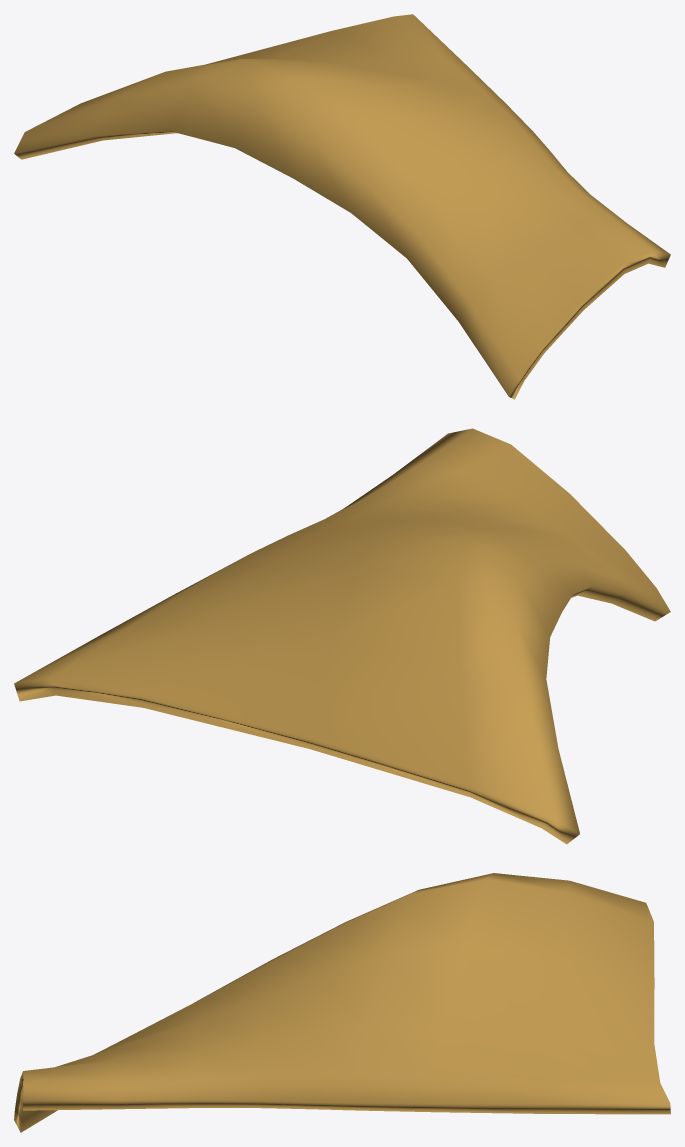
3 renders of one model, top to bottom at view 1: azimuth 30°, elevation 25°; view 2: azimuth 150°, elevation 25°; view 3: azimuth 270°, elevation 25°, orthographic. The views are drawn at different scales.
Visible parts, largest first — view 1: 左侧胫腓后韧带; view 2: 左侧胫腓后韧带; view 3: 左侧胫腓后韧带.
Part boxes in pixels (x1=…): 左侧胫腓后韧带: x1=14, y1=14, x2=670, y2=399; 左侧胫腓后韧带: x1=14, y1=428, x2=670, y2=844; 左侧胫腓后韧带: x1=14, y1=873, x2=670, y2=1132.
Bounding box in the file's own units: 0.0241 × 0.0111 × 0.0301.
